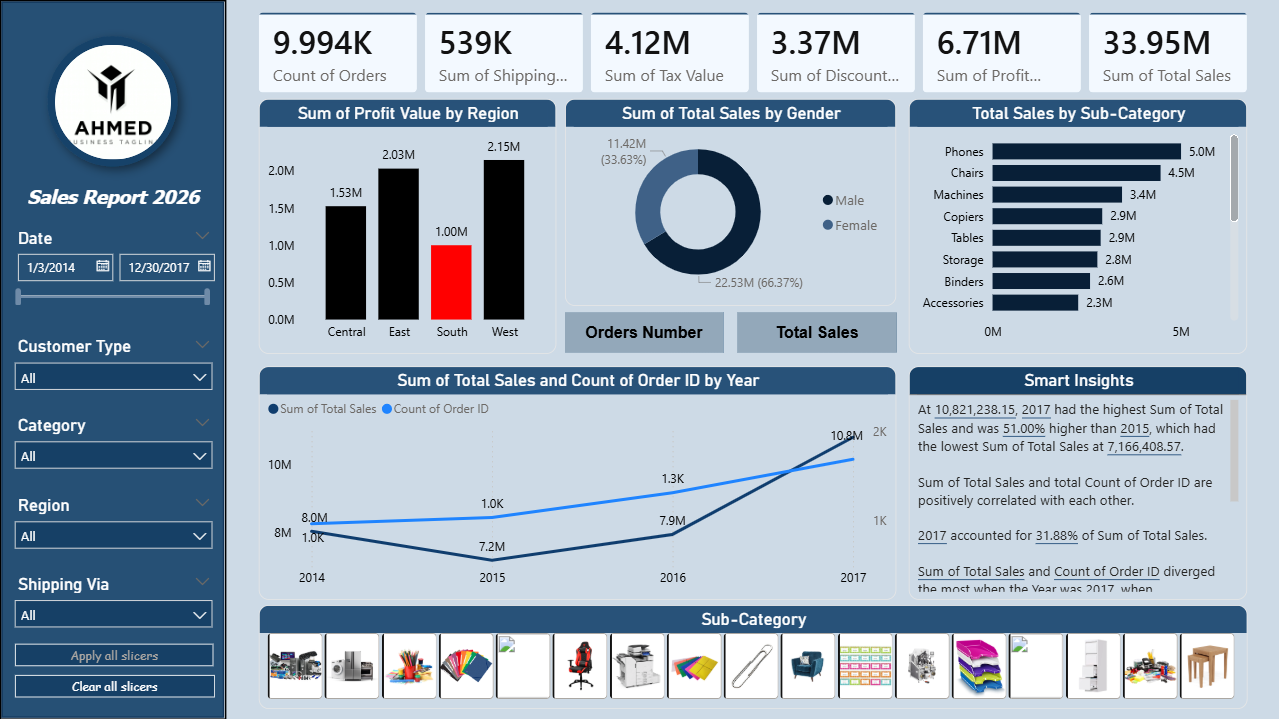

The page's visual inventory and layout, read from the dashboard file:
{"tool":"powerbi","page":{"name":"Page 5","canvas":[1280,720],"ordinal":6},"visuals":[{"type":"shape","box":[0,0,226.2,720],"z":0},{"type":"shape","box":[32.8,21.3,160,160],"z":1000},{"type":"image","box":[55,44.6,116,114.7],"z":2000},{"type":"textbox","box":[0,181.2,226.2,38.8],"z":3000},{"type":"slicer","fields":{"Values":["DateTable.Date"]},"box":[10,227.3,207.5,100],"z":4000},{"type":"slicer","fields":{"Values":["Customers.Customer Type"]},"box":[10,336.4,207.5,70],"z":5000},{"type":"slicer","fields":{"Values":["Products.Category"]},"box":[10,415.5,207.5,70],"z":6000},{"type":"slicer","fields":{"Values":["Shipping.Region"]},"box":[10,494.6,207.5,70],"z":7000},{"type":"slicer","fields":{"Values":["Orders.Shipping Via"]},"box":[10,573.8,207.5,70],"z":8000},{"type":"actionButton","box":[15,643.8,198.8,22.5],"z":9000},{"type":"actionButton","box":[15,675.6,200,22],"z":10000},{"type":"actionButton","box":[7.5,7.5,68.8,33.8],"z":12000},{"type":"cardVisual","fields":{"Data":["CountNonNull(Orders_details.Order ID)","Sum(Orders_details.Shipping Cost)","Sum(Orders_details.Tax Value)","Sum(Orders_details.Discount Value)","Sum(Orders_details.Profit Value)","Sum(Orders_details.Total Sales)"]},"box":[238.6,12.1,1028.6,80],"z":13000},{"type":"gauge","fields":{"Y":["Sum(Orders_details.Profit Value)"],"TargetValue":["Orders_details.My Profit Target"]},"box":[257.7,101.2,584.2,271.9],"z":14000},{"type":"kpi","fields":{"TrendLine":["DateTable.Year"],"Indicator":["Sum(Orders_details.Profit Value)"],"Goal":["Orders_details.Another Target"]},"box":[850.1,101.2,396.6,271.9],"z":15000},{"type":"esriVisual","fields":{"Location":["Shipping.State"],"Size":["Sum(Orders_details.Profit)"]},"box":[257.7,389.5,584.2,308.7],"z":16000},{"type":"keyDriversVisual","fields":{"Target":["Orders_details.Total Sales"],"ExplainBy":["Products.Sub-Category"]},"box":[850.1,389.5,396.6,308.7],"z":17000}]}

Visuals, with their boxes in screenshot pixels (x1, y1, x2, y2), scaled from the page's 1280x720 canvas onto the 1279x719 screenshot:
shape: 0,0,226,718
shape: 33,21,193,181
image: 55,45,171,159
textbox: 0,181,226,220
slicer - DateTable.Date: 10,227,217,327
slicer - Customers.Customer Type: 10,336,217,406
slicer - Products.Category: 10,415,217,485
slicer - Shipping.Region: 10,494,217,564
slicer - Orders.Shipping Via: 10,573,217,643
actionButton: 15,643,214,665
actionButton: 15,675,215,697
actionButton: 7,7,76,41
cardVisual - CountNonNull(Orders_details.Order ID) x Sum(Orders_details.Shipping Cost): 238,12,1266,92
gauge - Sum(Orders_details.Profit Value) x Orders_details.My Profit Target: 257,101,841,373
kpi - DateTable.Year x Sum(Orders_details.Profit Value): 849,101,1246,373
esriVisual - Shipping.State x Sum(Orders_details.Profit): 257,389,841,697
keyDriversVisual - Orders_details.Total Sales x Products.Sub-Category: 849,389,1246,697
